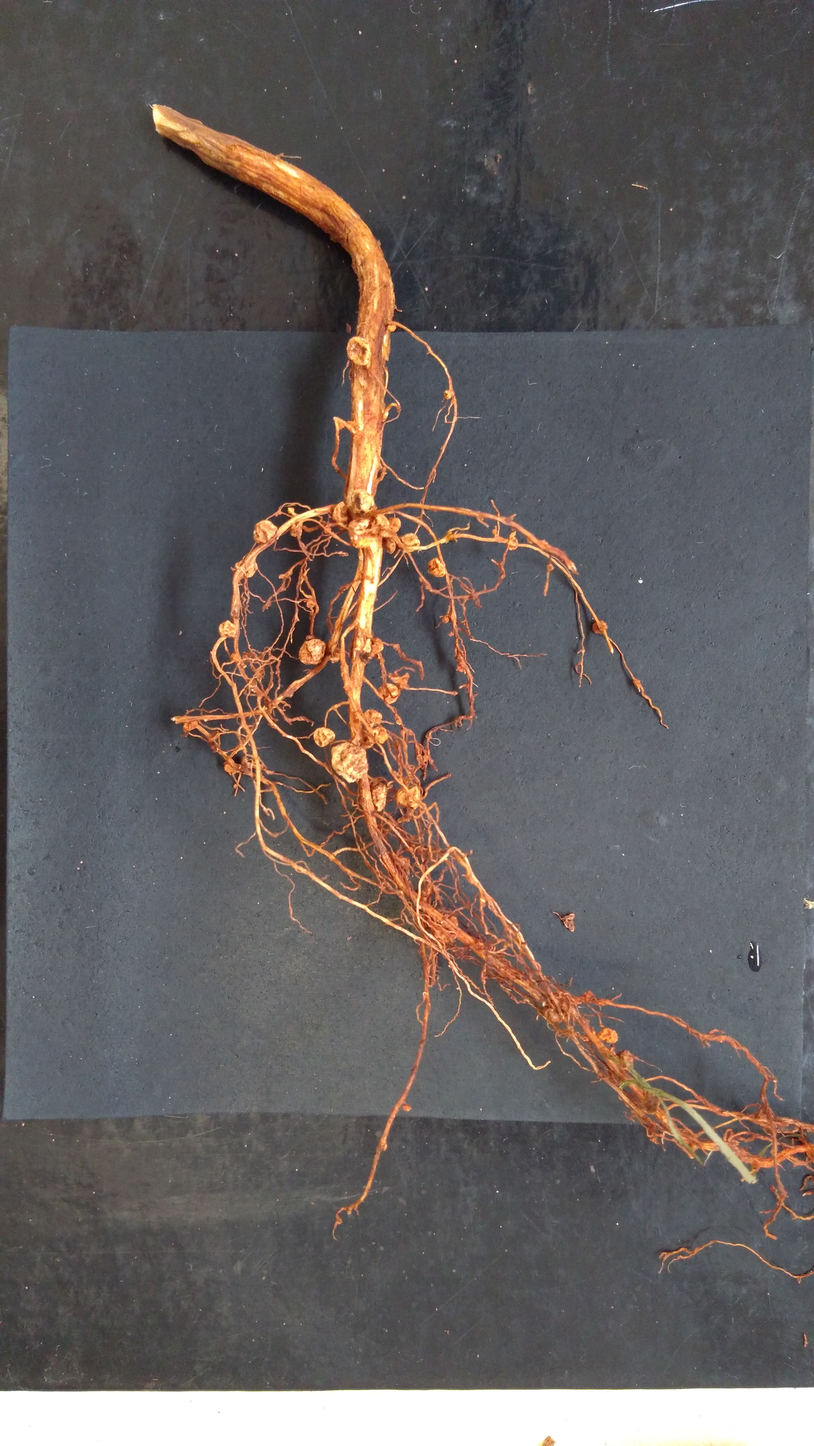nodule: (330, 741, 370, 784), (428, 909, 461, 944), (343, 335, 373, 369), (347, 517, 373, 550), (298, 637, 327, 666), (347, 489, 377, 515), (368, 779, 389, 814), (251, 519, 279, 545), (394, 785, 421, 810), (312, 725, 337, 749), (388, 854, 411, 879), (377, 682, 400, 706), (333, 499, 349, 533), (364, 637, 385, 661), (597, 1025, 621, 1045), (215, 619, 238, 639), (397, 531, 422, 549), (425, 557, 445, 578), (362, 708, 383, 727), (615, 1049, 633, 1070), (370, 512, 386, 534), (373, 725, 389, 745), (385, 517, 403, 534), (590, 619, 609, 635), (243, 562, 260, 579), (381, 537, 397, 555), (183, 719, 198, 733), (507, 536, 520, 552), (288, 525, 304, 538), (544, 561, 556, 573), (223, 762, 234, 775), (230, 651, 242, 662), (401, 1103, 414, 1113), (444, 389, 455, 399), (387, 324, 398, 333), (441, 613, 450, 623), (287, 506, 296, 515), (395, 719, 401, 726)
